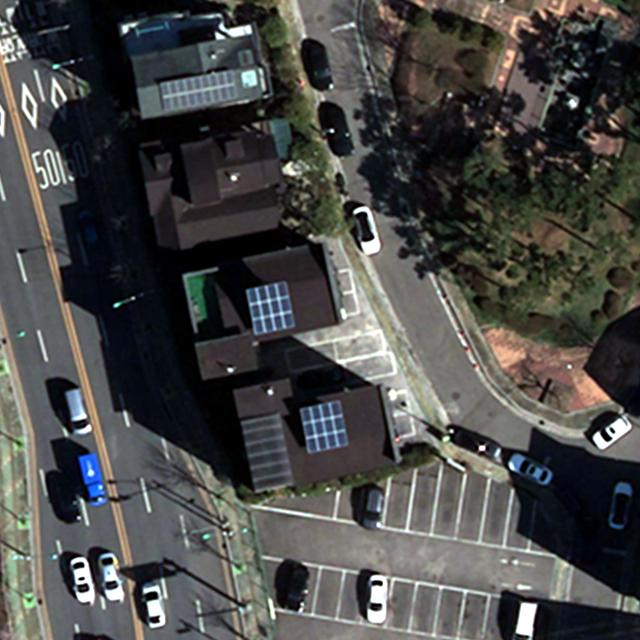panel: (157, 71, 241, 111), (242, 279, 296, 336), (297, 400, 352, 454)
